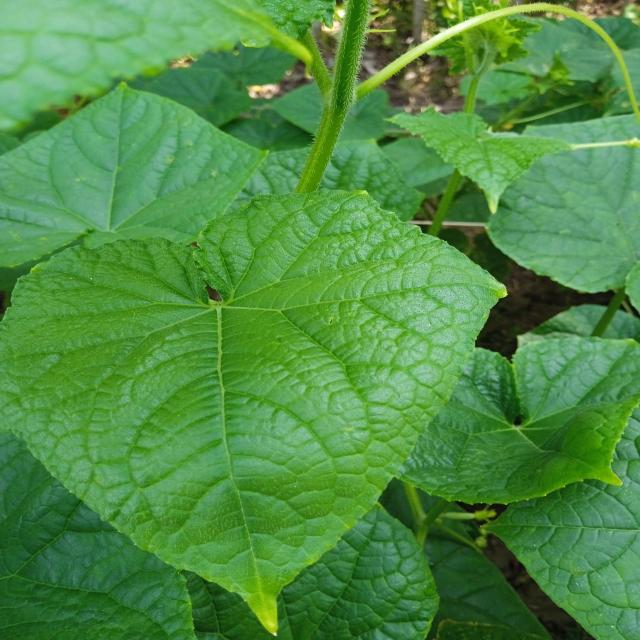cucumber_healthy: (2, 183, 510, 640), (2, 79, 280, 264), (403, 323, 640, 511), (382, 88, 583, 220)
